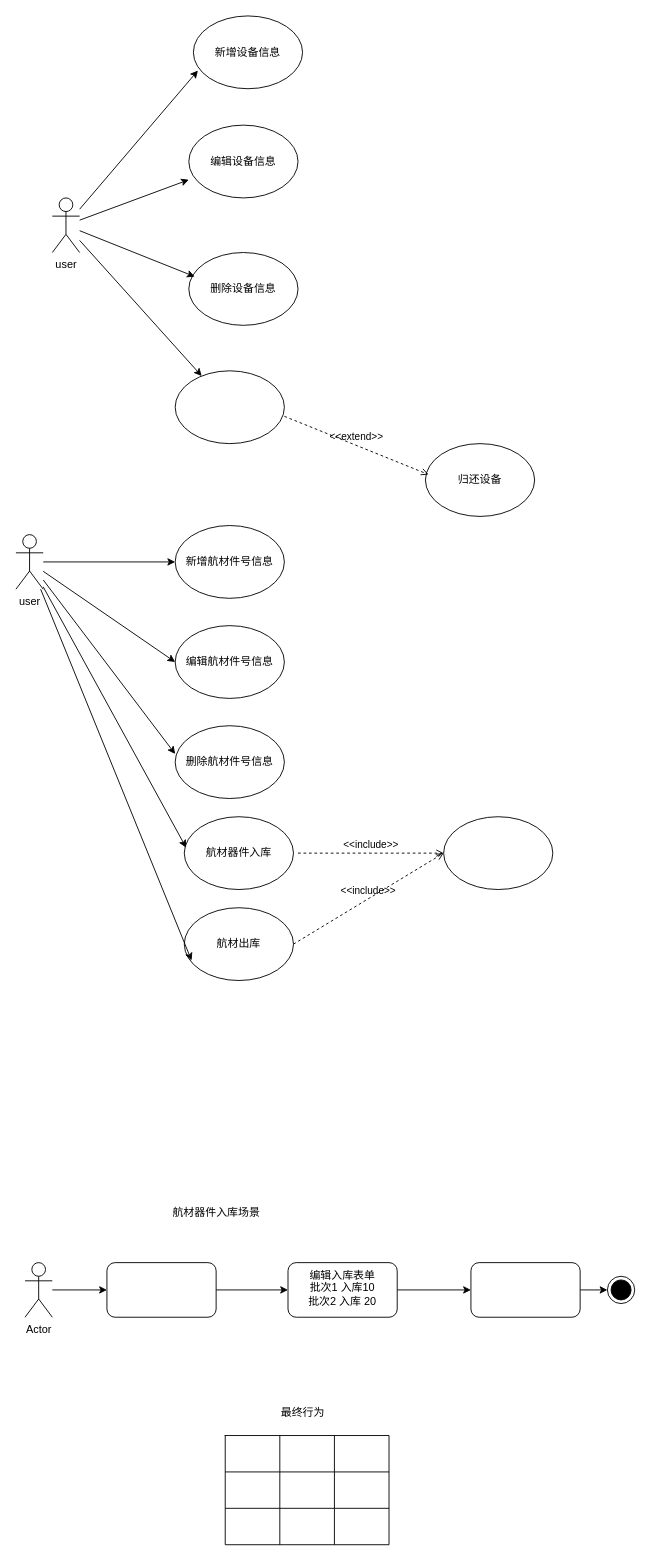
Some shapes in this 651 by 1561 pixel diagram are drawn without their labels. The box of each missing label's shape, as (x1, y1, x2, y2) in pixels:
借用设备: (174, 370, 284, 444)
提交表单: (470, 1262, 580, 1317)
记录航材出入库信息: (443, 816, 553, 890)
选择入库器件，点击入库按钮，弹出入库页面: (106, 1262, 216, 1317)
